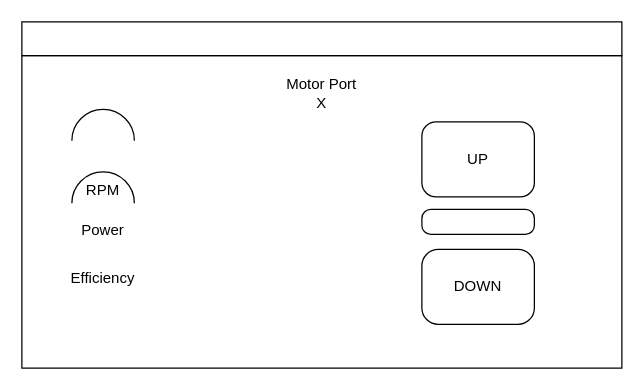
Some shapes in this 644 by 390 pixel diagram are drawn without their labels. The shapes that lost their labels are listed below. From the top down, each one's box as (x1, y1, x2, y2) in pixels, then its label:
(71, 108, 134, 172): Temp
(421, 208, 534, 234): RESET
